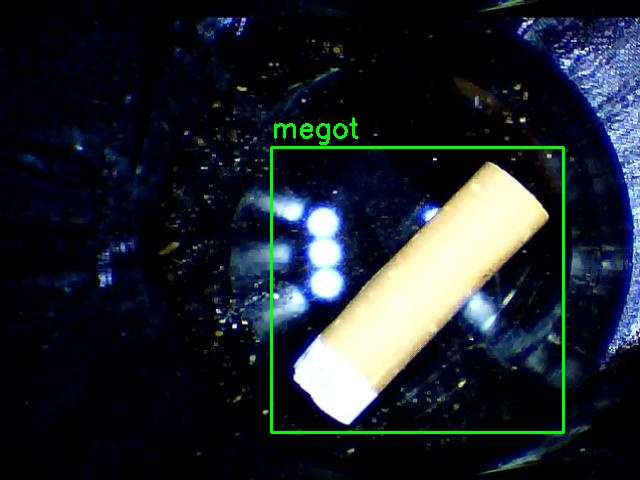megot: (271, 147, 563, 432)
